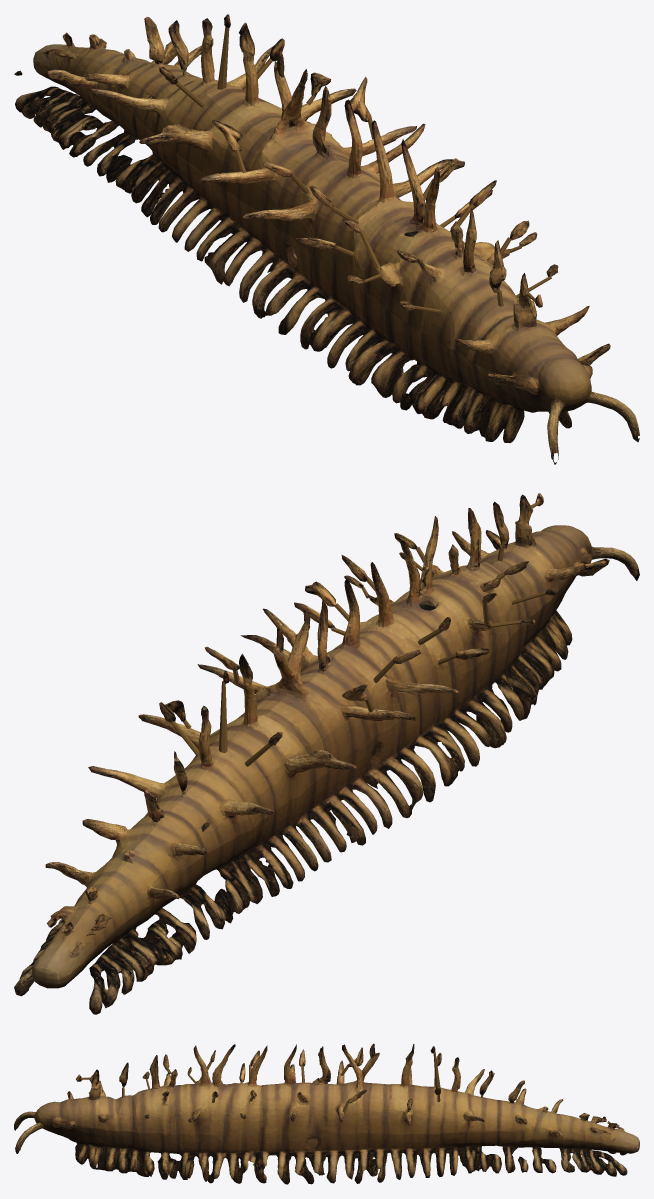
The picture shows the model from 3 angles, top to bottom: view 1: azimuth 30°, elevation 25°; view 2: azimuth 150°, elevation 25°; view 3: azimuth 270°, elevation 25°; orthographic projection. The views are drawn at different scales.
Parts seen in each view (by area): view 1: world; view 2: world; view 3: world.
Boxes of the visible parts, <box> form: world: <box>14,14,639,464</box>; world: <box>14,493,639,1014</box>; world: <box>14,1043,639,1184</box>.
Bounding box in the file's own units: 0.2291 × 0.2149 × 1.
1 material, 1 textured.
